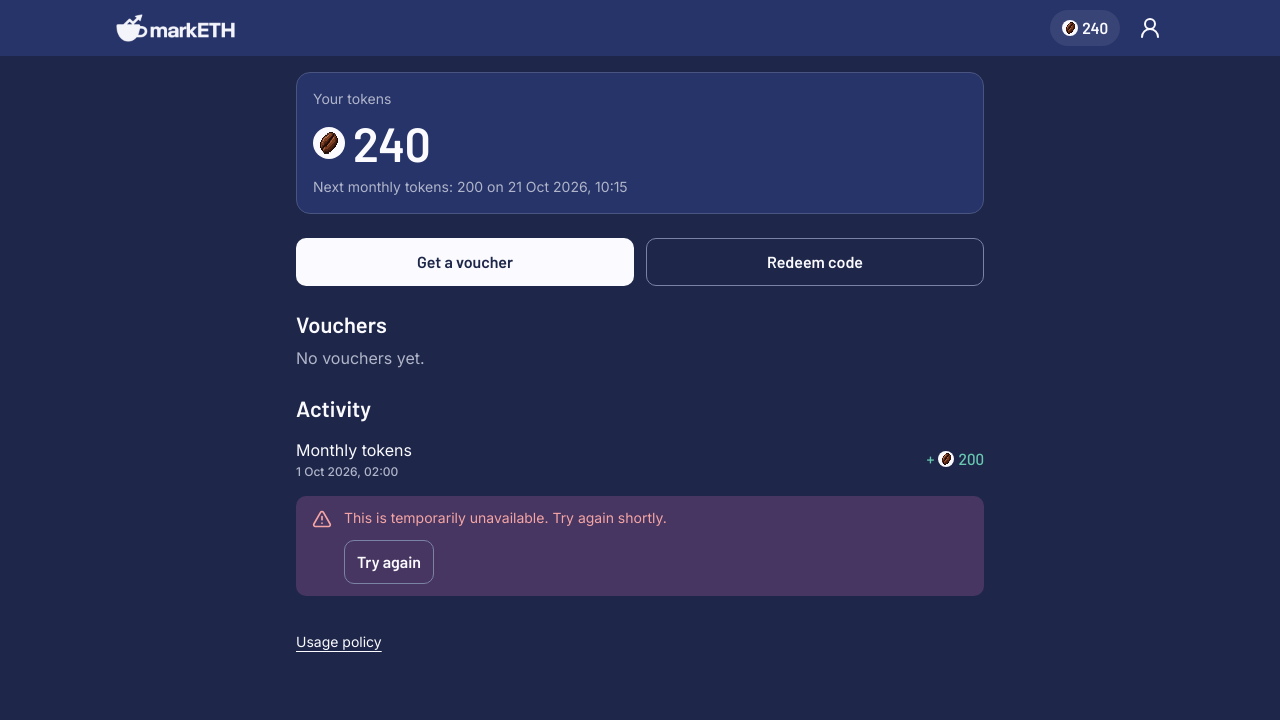
Test: the activity pages › a page that failed shows the API's message with 'Try again' and keeps the rows it has
Expected: the message shows "This is temporarily unavailable. Try again shortly.", [344, 509, 667, 526]
Expected: the text "Monthly tokens" is shown, [296, 438, 412, 462]
Click the button "Try again". click: (389,562)
box: [344, 540, 434, 584]
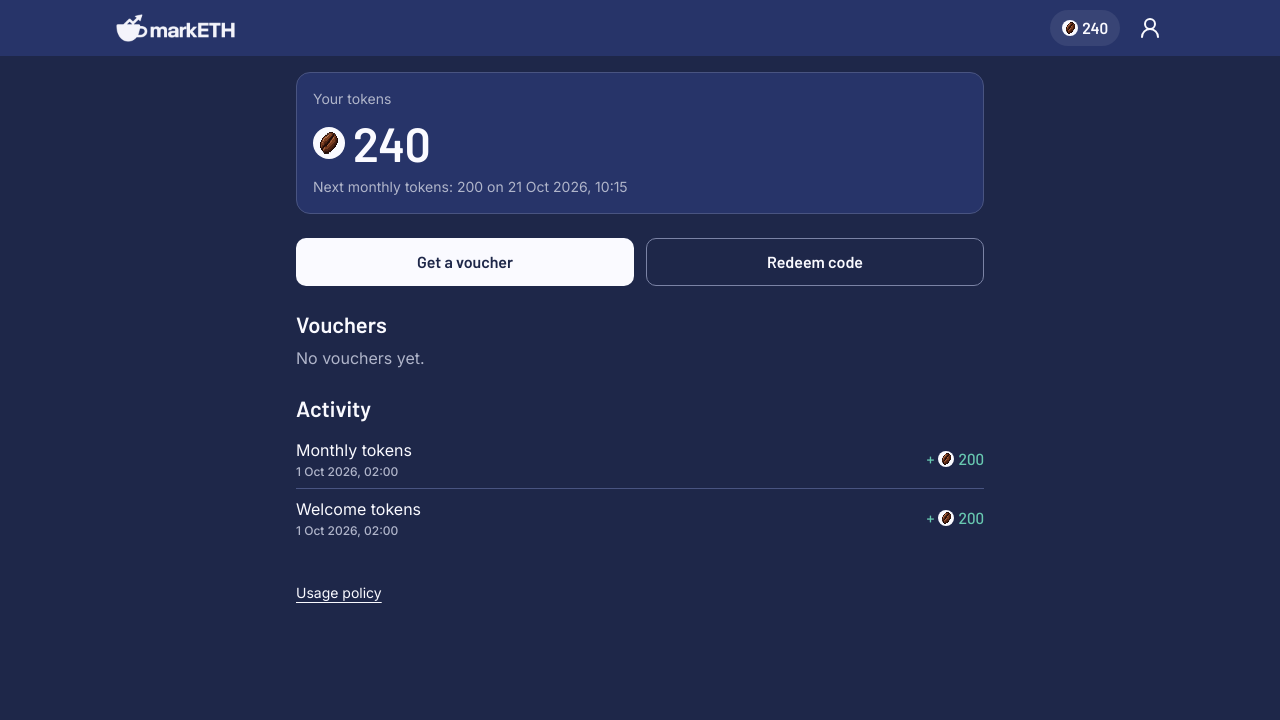
Expected: the text "Welcome tokens" is shown, [296, 497, 421, 521]
